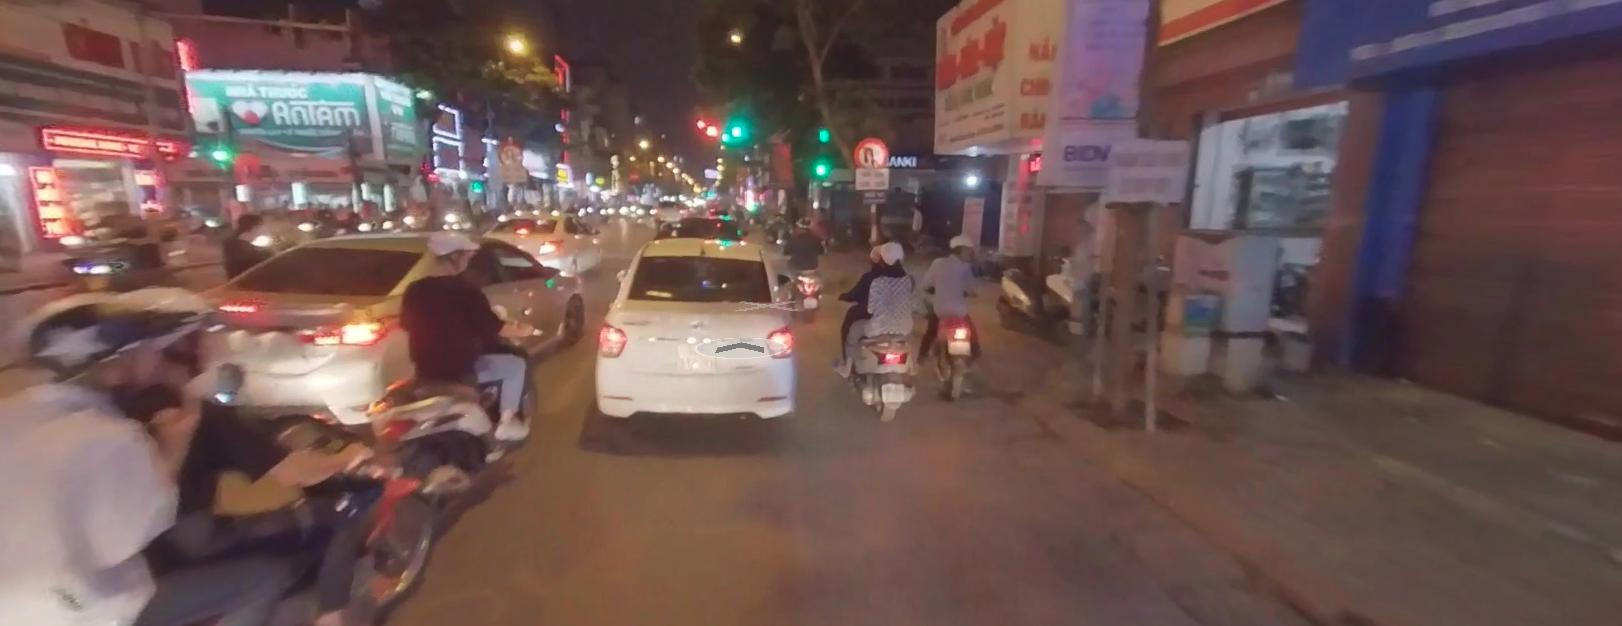Cam re: (853, 137, 888, 171)
